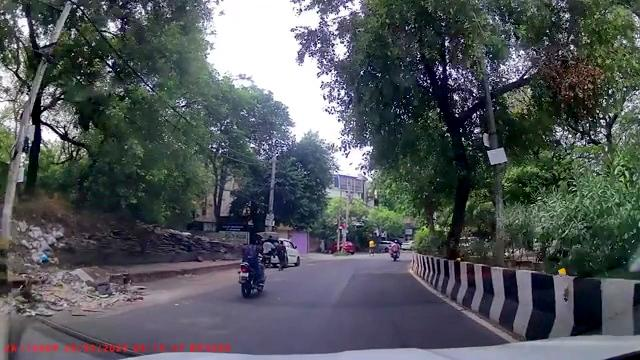motorcycle_without_helmet: (237, 230, 267, 299)
